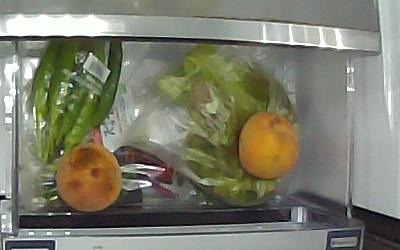peach: (54, 144, 124, 212), (238, 112, 302, 182)
